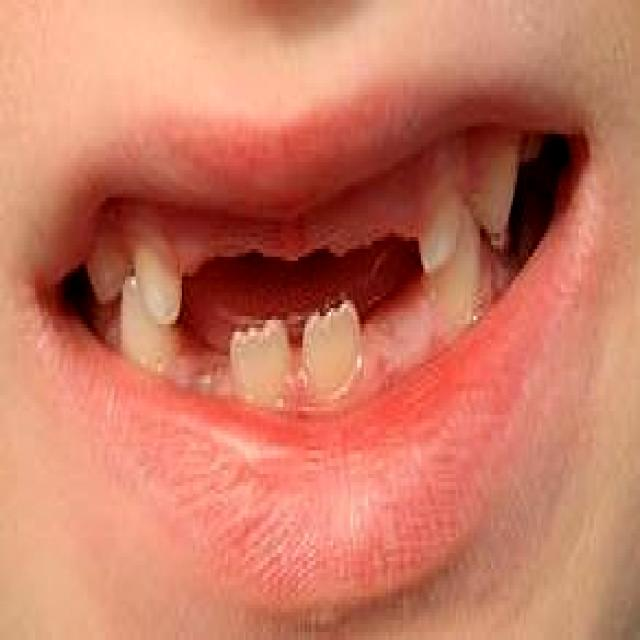hypodontia: (55, 142, 565, 411)
